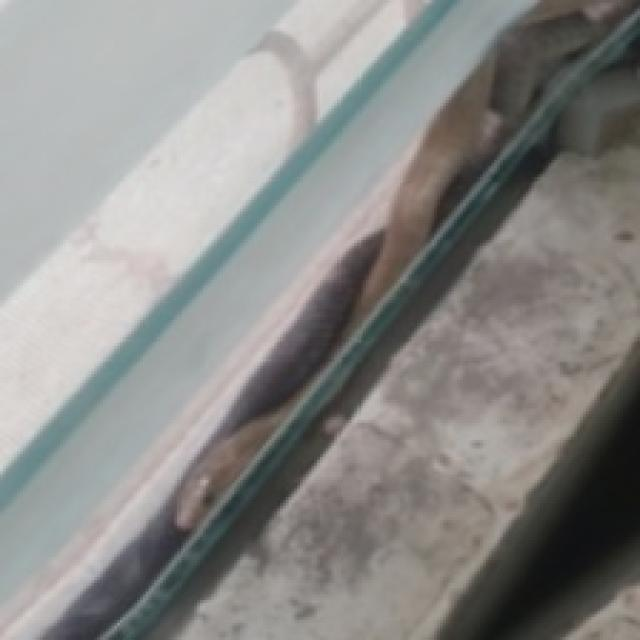reddish rat snake: (1, 0, 639, 639)
